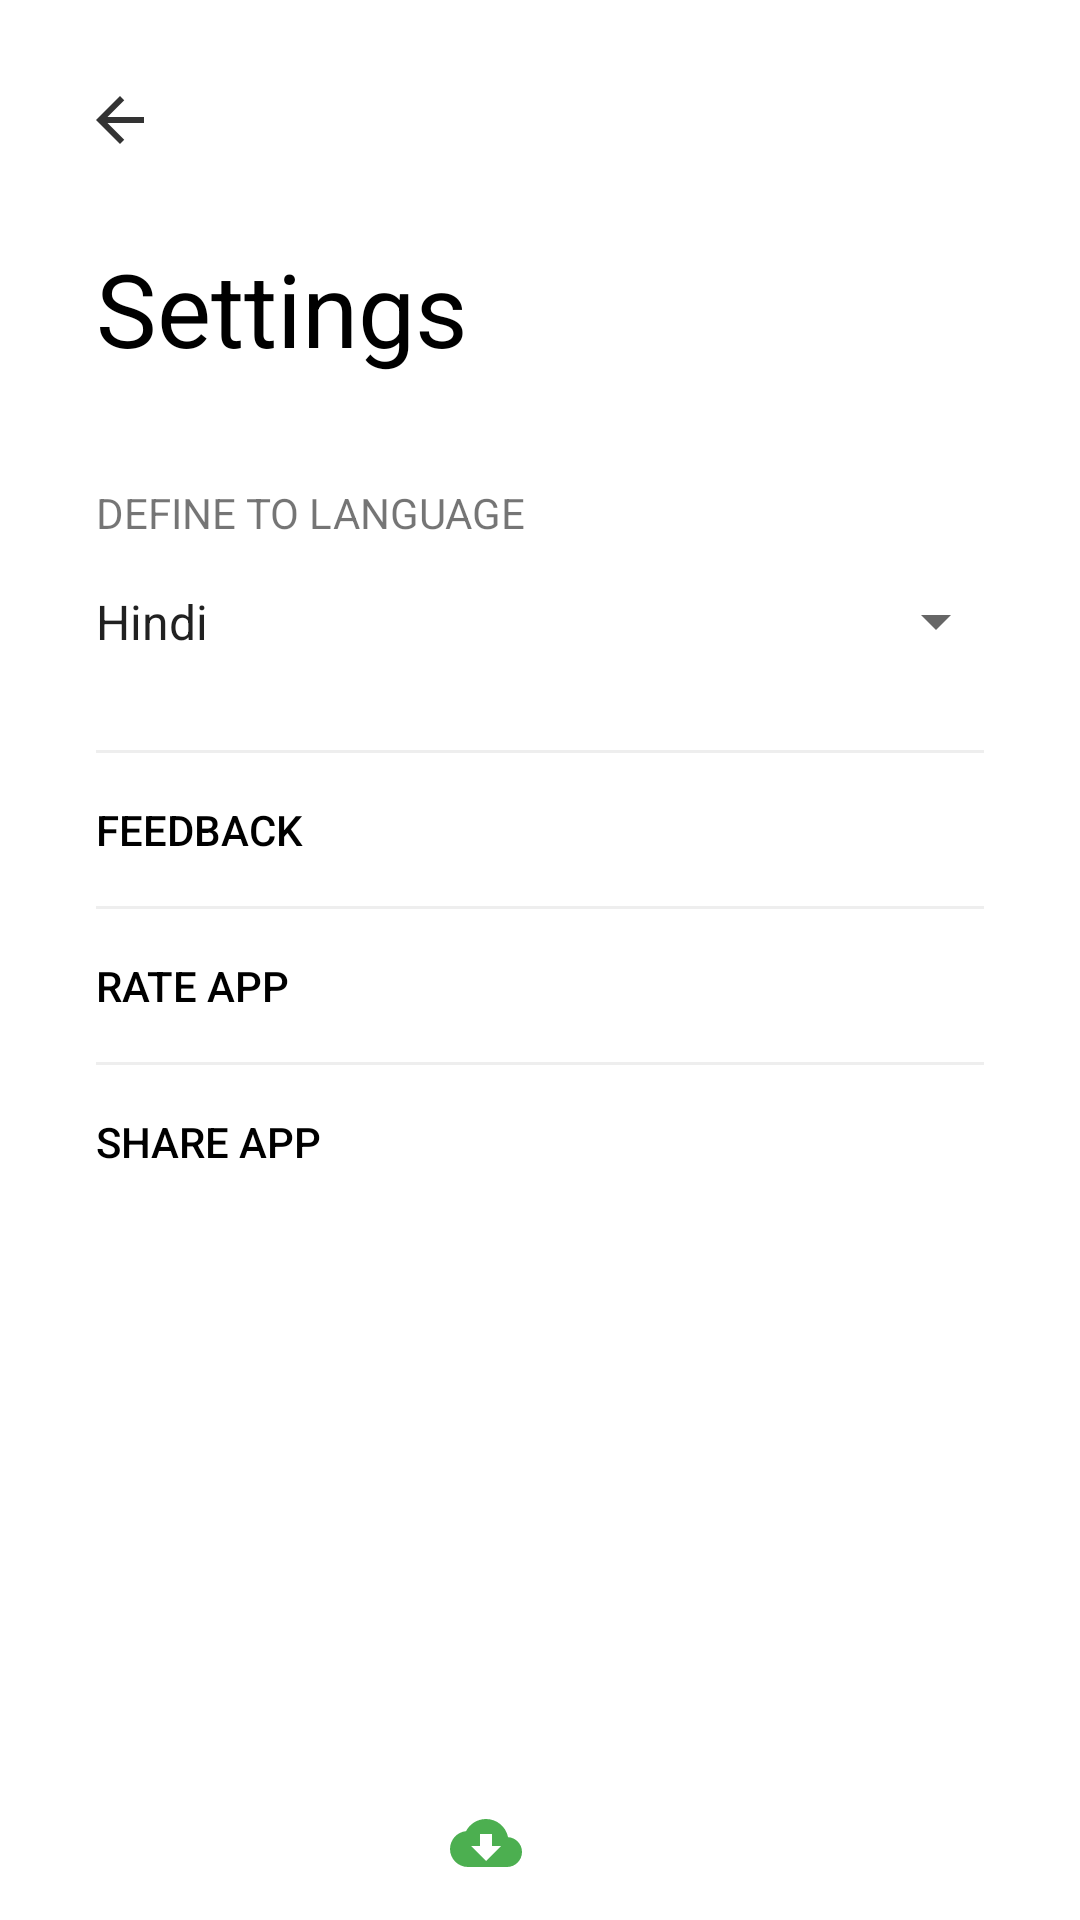

Icons on this 1080px x 1920px Android screen, each with its box as (x1, y1, x2, y2):
arrow back: (96, 96, 144, 144)
cloud download: (450, 1819, 522, 1867)
